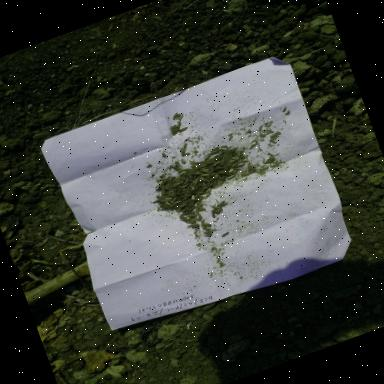pbw: (247, 141, 260, 150), (177, 125, 190, 134), (225, 173, 239, 181), (178, 214, 190, 223), (151, 198, 164, 206), (219, 231, 232, 239), (212, 182, 225, 190), (178, 146, 189, 155), (219, 146, 230, 155), (203, 221, 214, 230), (207, 226, 219, 234), (186, 218, 198, 226), (178, 201, 190, 209), (208, 145, 220, 153), (216, 150, 228, 158), (160, 178, 172, 186), (180, 151, 192, 159), (203, 192, 215, 200), (160, 197, 172, 205), (198, 159, 211, 166), (176, 113, 186, 122), (207, 158, 218, 166), (189, 159, 200, 167), (186, 210, 198, 217), (236, 162, 248, 169), (228, 146, 240, 153), (193, 207, 202, 216), (204, 229, 214, 237), (198, 205, 208, 213), (176, 168, 184, 178), (200, 171, 210, 179), (189, 163, 199, 171), (204, 232, 214, 240), (168, 164, 178, 172), (173, 198, 184, 205), (196, 195, 207, 202), (210, 211, 218, 220), (172, 112, 180, 121), (182, 176, 191, 184), (174, 180, 186, 186), (209, 150, 221, 156), (199, 217, 208, 225), (227, 166, 236, 174), (186, 182, 195, 190), (173, 160, 182, 168), (180, 157, 188, 166), (217, 169, 227, 176), (165, 206, 175, 213), (188, 212, 198, 219), (216, 164, 226, 171), (170, 130, 180, 137), (219, 202, 230, 208), (208, 162, 219, 168), (202, 154, 213, 160), (186, 222, 197, 228), (197, 163, 208, 169), (160, 151, 168, 159), (182, 142, 190, 150), (188, 200, 196, 208), (238, 153, 246, 161), (192, 178, 200, 186), (181, 170, 189, 178), (164, 199, 172, 207), (174, 205, 182, 213), (234, 166, 243, 173), (197, 186, 207, 192), (186, 208, 196, 214), (182, 182, 192, 188), (194, 170, 204, 176), (196, 190, 206, 196), (191, 223, 201, 229), (167, 184, 177, 190), (240, 158, 250, 164), (202, 168, 210, 175), (204, 176, 212, 183), (236, 150, 243, 158), (157, 180, 165, 187), (196, 200, 204, 207), (232, 155, 240, 162), (200, 180, 207, 188), (195, 216, 203, 223), (220, 155, 228, 162), (214, 208, 221, 216), (160, 184, 168, 191), (218, 174, 225, 182), (197, 213, 205, 220), (191, 172, 198, 180), (225, 160, 232, 168), (179, 170, 188, 176), (210, 204, 219, 210), (217, 200, 226, 206), (168, 188, 177, 194), (179, 212, 189, 217), (202, 224, 209, 231), (218, 206, 224, 214), (211, 174, 219, 180), (208, 181, 216, 187), (165, 195, 173, 201), (170, 196, 178, 202), (172, 124, 178, 131), (207, 186, 214, 192), (176, 122, 182, 129), (181, 207, 188, 213), (191, 195, 196, 201)
